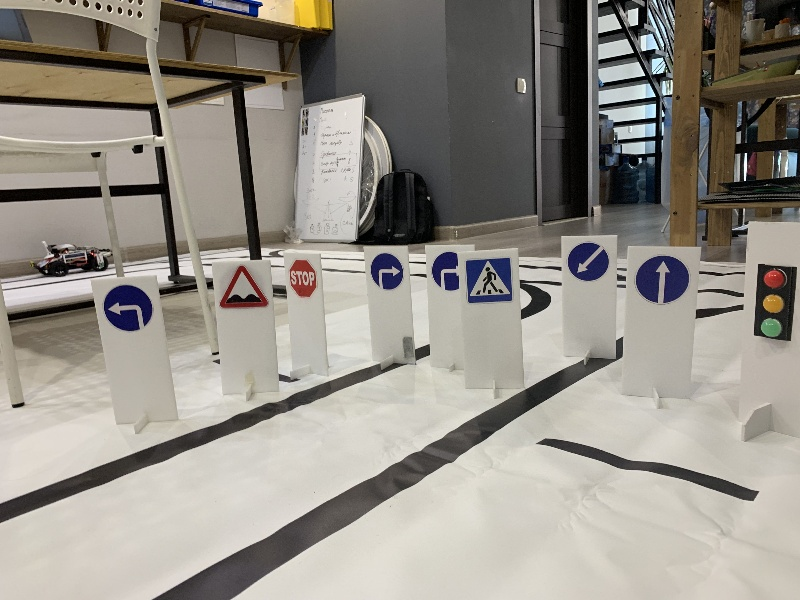Left: (101, 282, 153, 333)
Nerov: (217, 265, 272, 313)
Right: (369, 253, 404, 293), (429, 251, 464, 291)
Stop: (289, 259, 318, 301)
forw: (634, 256, 693, 305)
pesh: (465, 256, 514, 303)
prep: (565, 242, 613, 284)
